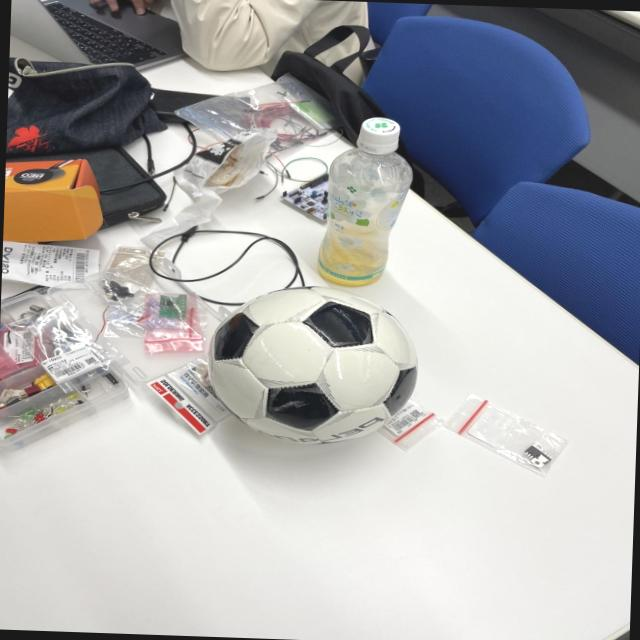Soccer Ball: (204, 282, 421, 447)
